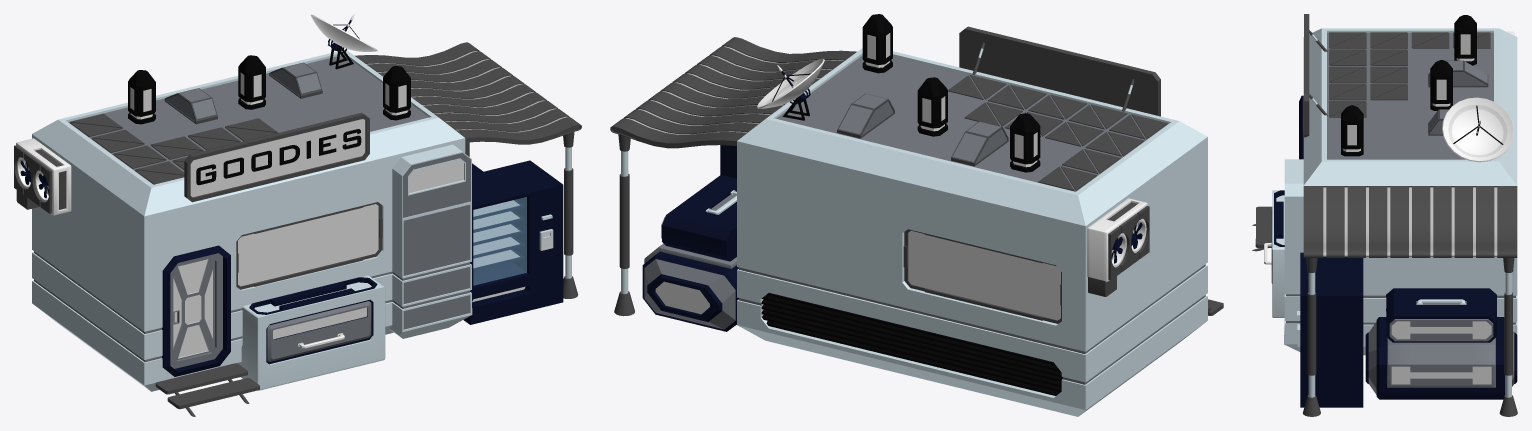
File: Shop level 1.fbx
3 renders of one model, left to right at view 1: azimuth 30°, elevation 25°; view 2: azimuth 150°, elevation 25°; view 3: azimuth 270°, elevation 25°, orthographic. The views are drawn at different scales.
Visible parts, largest first — view 1: main; view 2: main; view 3: main.
Boxes of the visible parts, x1,y1,x2,y2 form: main: [14, 14, 581, 416]; main: [610, 14, 1223, 416]; main: [1252, 14, 1517, 416].
Bounding box in the file's own units: 470 × 248 × 249.
